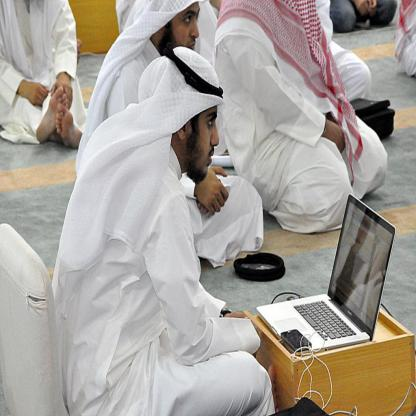board: (270, 224, 395, 364)
